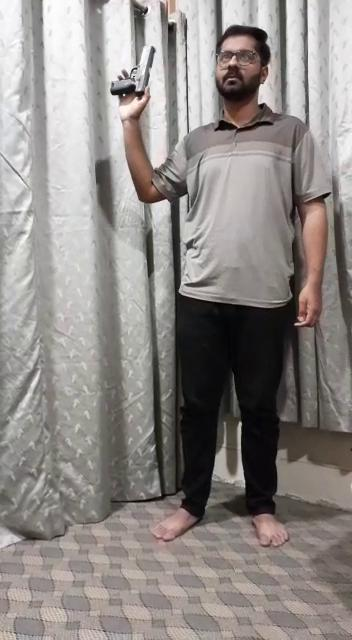criminal: (107, 22, 330, 551)
weapon: (108, 39, 162, 102)
